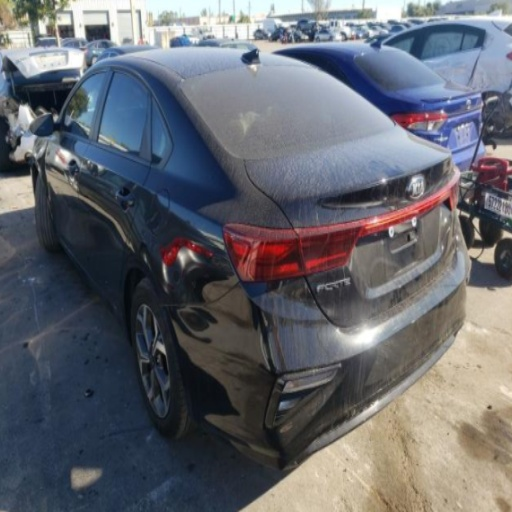dent: (164, 236, 228, 334), (139, 242, 152, 267)
